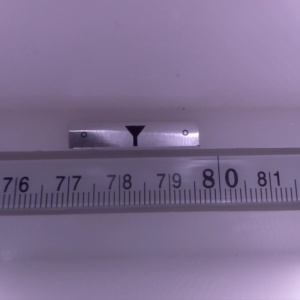0: (224, 169, 238, 188)
1: (273, 171, 280, 187)
6: (18, 176, 29, 192)
7: (54, 176, 65, 192), (1, 176, 12, 192), (71, 175, 81, 191), (156, 173, 166, 189), (106, 174, 115, 190)
8: (201, 169, 215, 188), (256, 171, 267, 187), (121, 173, 131, 189)
finger: (122, 126, 145, 147)
